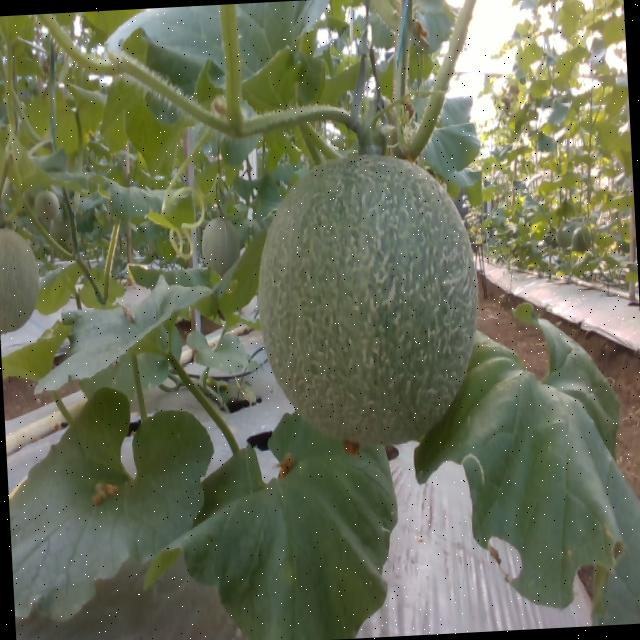melon: (261, 157, 478, 447)
